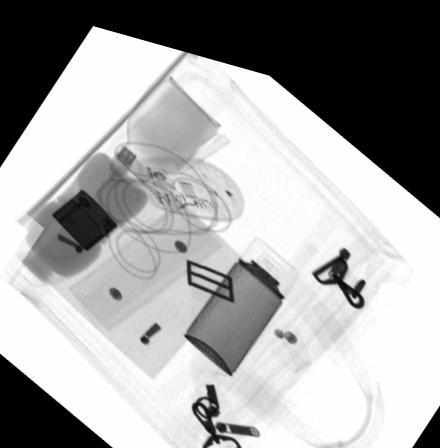Lighter: (51, 183, 117, 245)
Sprayer: (182, 220, 299, 363)
